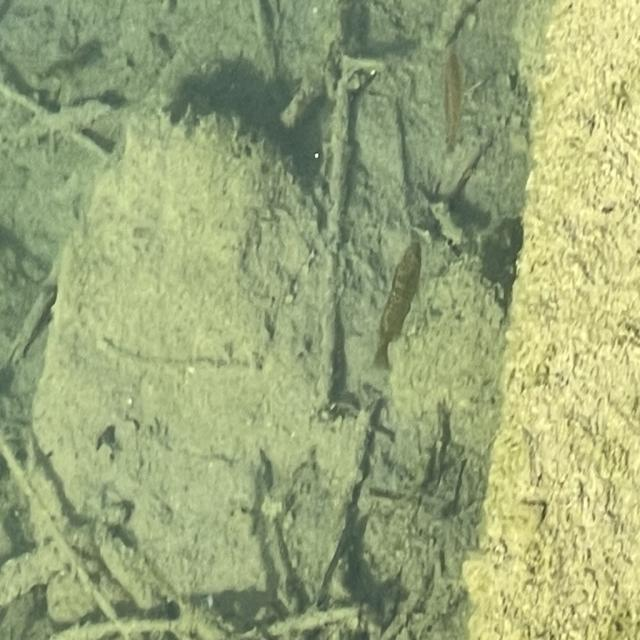Gunes Levregi: (370, 230, 423, 380), (437, 37, 471, 166)
